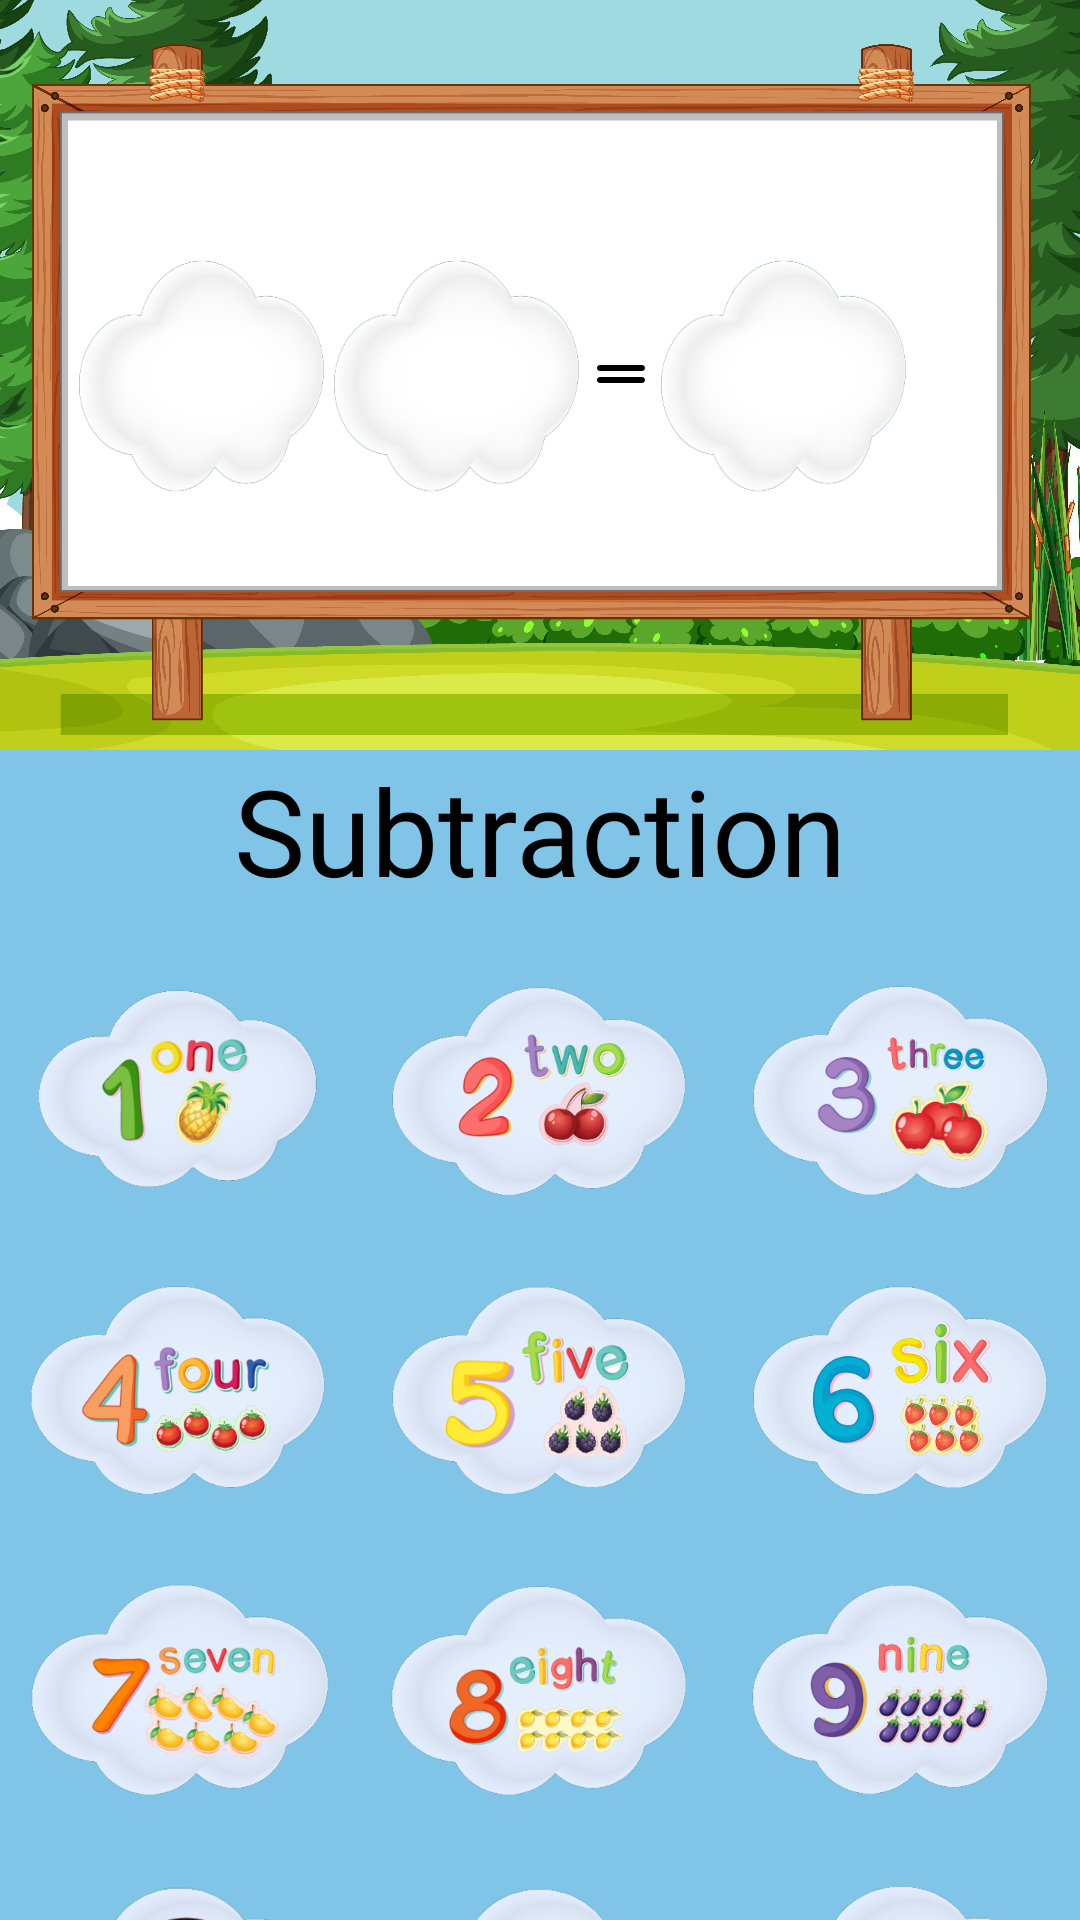

Named icons in this screenshot (1080 x 1920) and their centers, (x,y):
math equal: (621,374)
